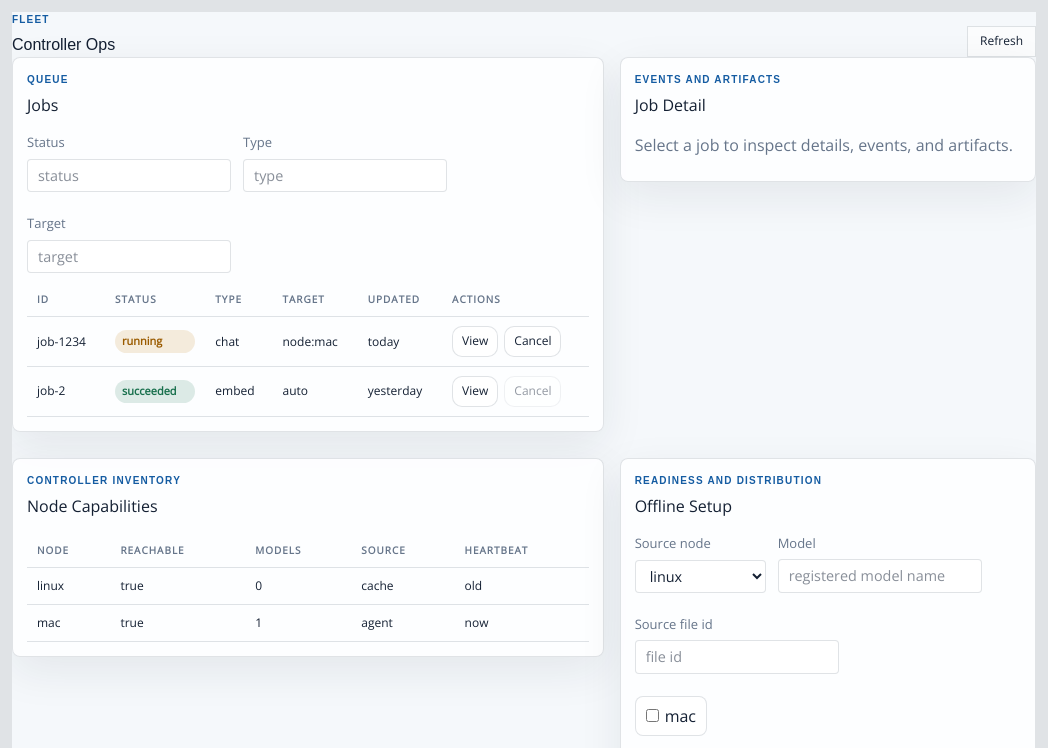
Test: cancels jobs and refreshes controller data
Click the button with aria-label "Cancel job-123456789" at x=533, y=342, box [504, 326, 561, 357]
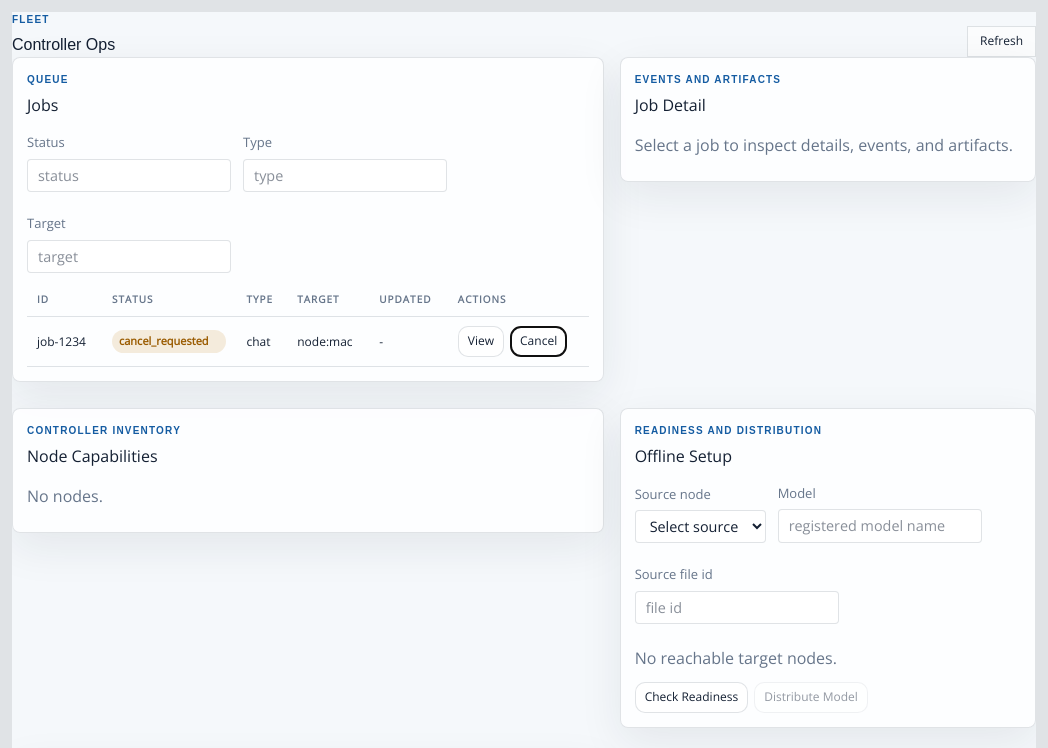
Check: the text "cancel_requested" is shown, box [112, 330, 226, 353]
